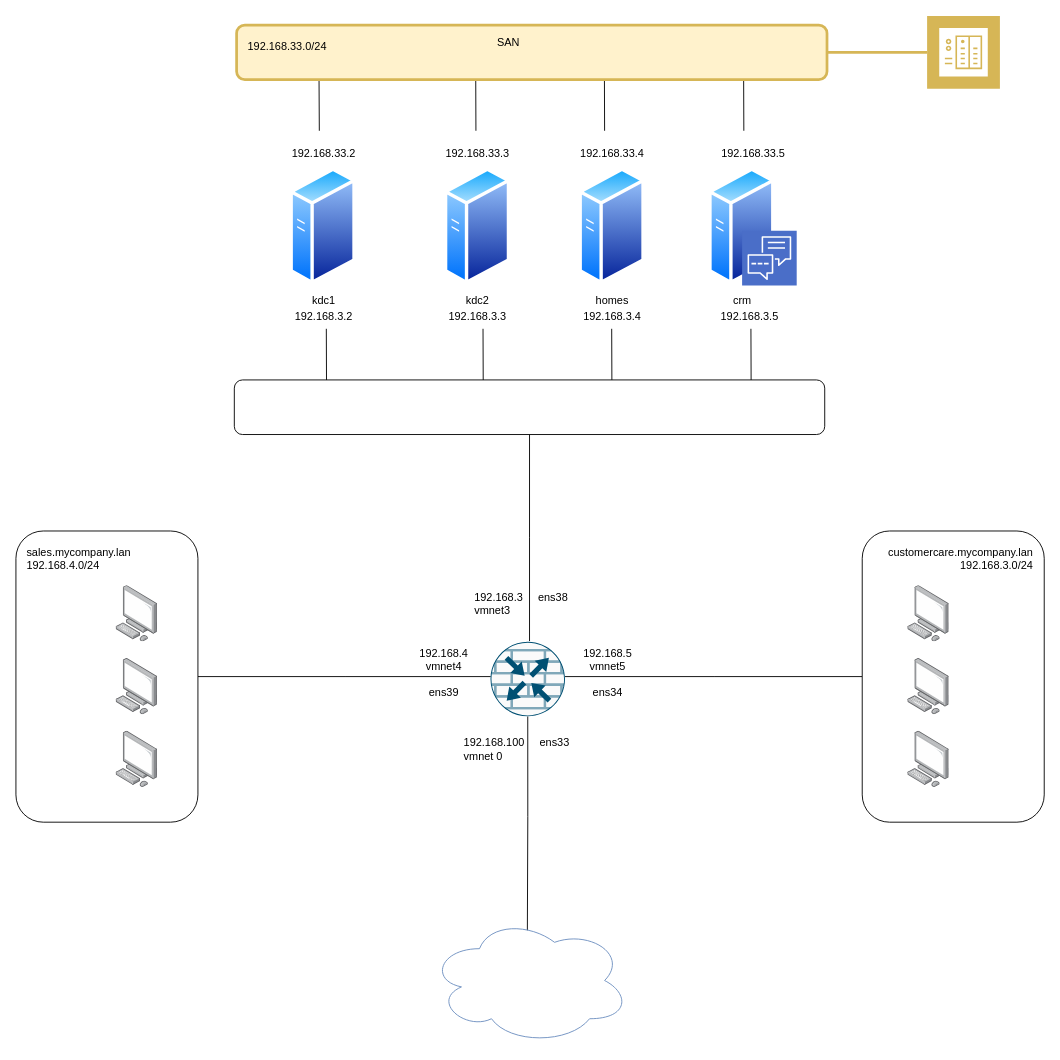
This 1060x1060 diagram has some shape labels left out. Here are the shapes that lost their labels. From the top down, the centre of each, then its label:
At [963,52]: "nas.mycompany.lan 192.168.33.1".
At [529,407]: "mycompany.lan 192.168.3.0/24".
At [529,980]: "wan".
